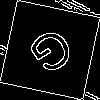G: (25, 25, 83, 85)
